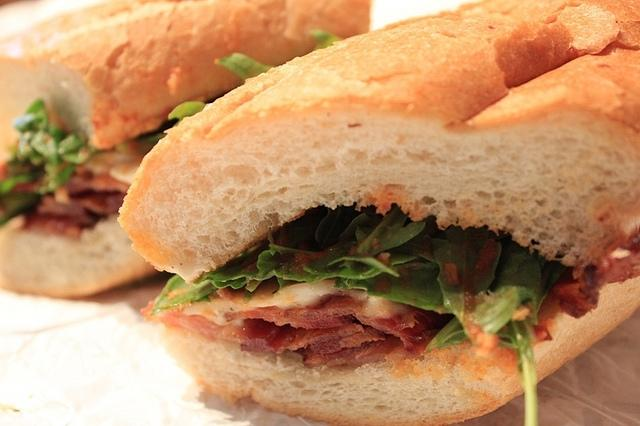lettuce: (431, 224, 502, 344), (334, 262, 451, 315), (13, 100, 85, 170), (496, 320, 538, 424), (356, 205, 426, 257), (194, 241, 276, 284), (354, 224, 438, 264), (256, 244, 318, 278), (218, 52, 274, 80), (282, 250, 328, 282), (1, 192, 42, 227), (167, 101, 206, 126), (306, 30, 343, 50)
